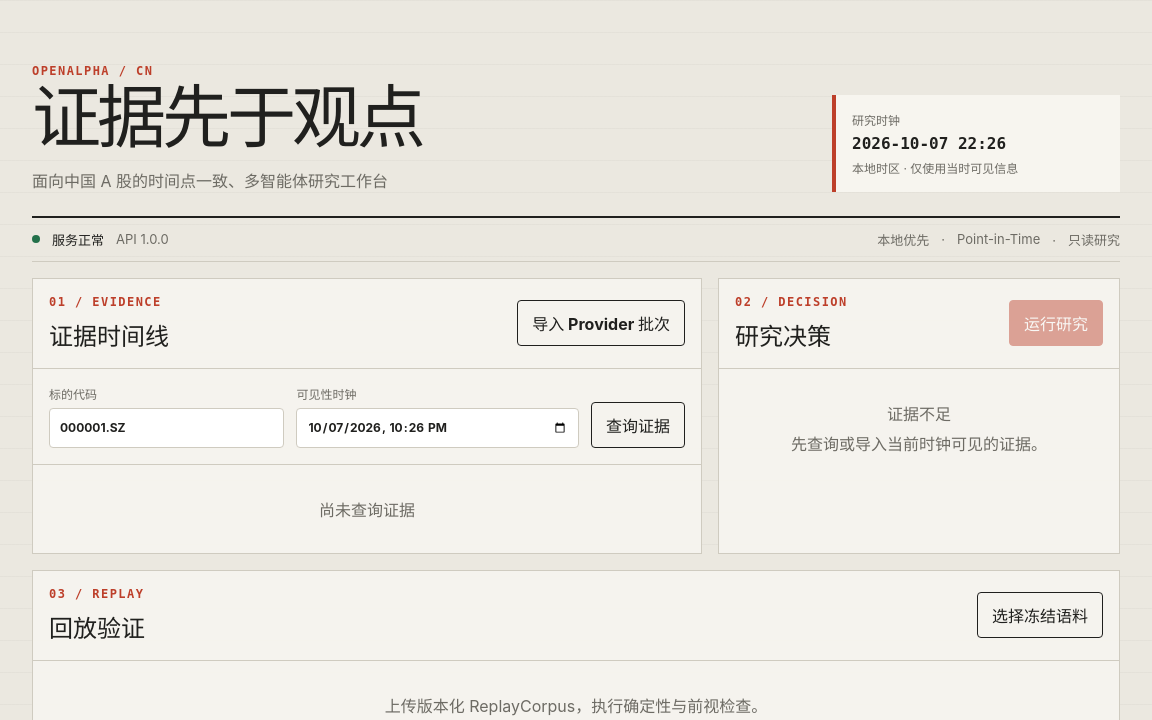
Test: OpenAlpha workbench › renders a failed evidence query as an alert rather than an empty result
Expected: the text "服务正常" is shown, [52,230,104,249]
Click the button "查询证据".
click(638, 425)  # box [591,402,685,448]
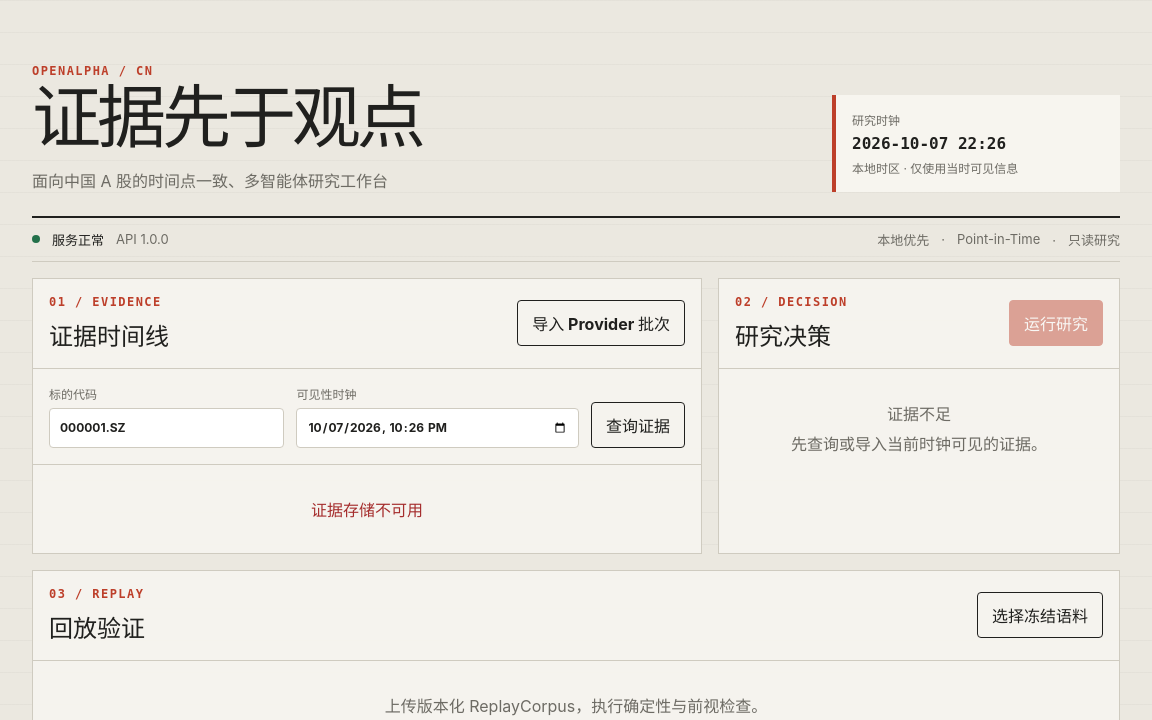
Expected: the message reads "证据存储不可用", [311,500,423,520]
